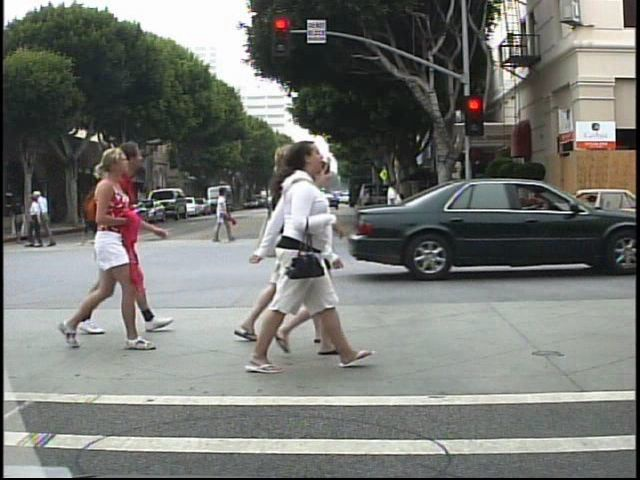person: (54, 146, 153, 355), (263, 136, 343, 378), (294, 159, 372, 372), (232, 146, 310, 354), (112, 139, 163, 336), (382, 177, 410, 240), (37, 185, 59, 251), (212, 184, 233, 247), (272, 184, 294, 242), (25, 195, 48, 250), (359, 187, 375, 223)
